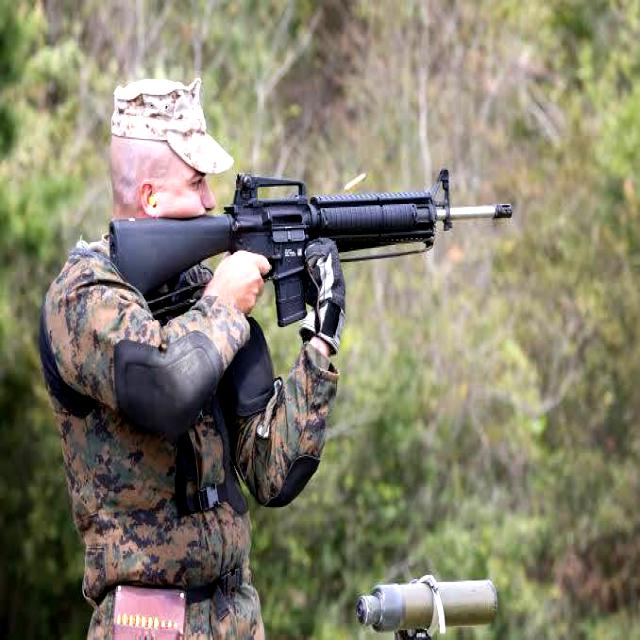m16: (204, 109, 532, 364)
